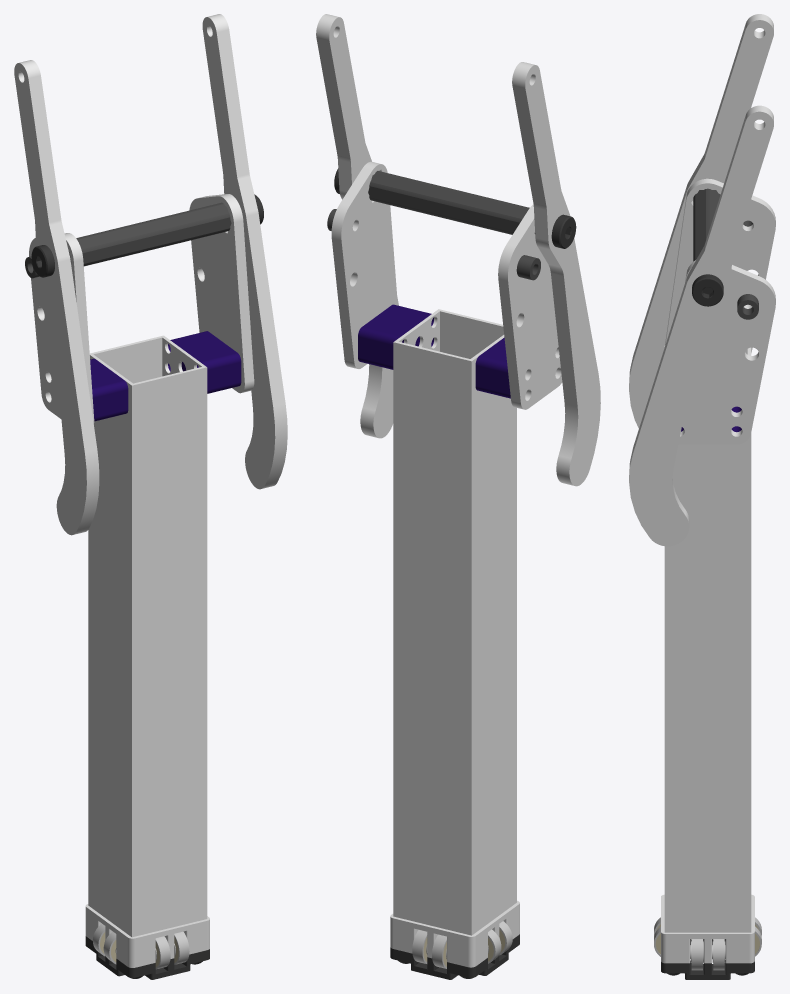
3 renders of one model, left to right at view 1: azimuth 30°, elevation 25°; view 2: azimuth 150°, elevation 25°; view 3: azimuth 270°, elevation 25°, orthographic. The views are drawn at different scales.
Visible parts, largest first — view 1: Tube 1.5"x1.5"x10.5", Hook (×2), Hook Mount (×2), 3.375 in. Rounded Hex Shaft, Hook Mount Spacer (×2), WCP-0419-007 Rev1_2, WCP-0419-009 Rev1_2, 3/8" Round x 5/16" L Shoulder (5/16"-18 x 0.8125" L, Steel, ; view 2: Tube 1.5"x1.5"x10.5", Hook (×2), Hook Mount (×2), 3.375 in. Rounded Hex Shaft, Hook Mount Spacer (×2), WCP-0419-007 Rev1_2, WCP-0419-009 Rev1_2, 3/8" Round x 5/16" L Shoulder (5/16"-18 x 0.8125" L, Steel, ; view 3: Tube 1.5"x1.5"x10.5", Hook (×2), Hook Mount (×2), WCP-0419-007 Rev1_2, 3.375 in. Rounded Hex Shaft, WCP-0419-009 Rev1_2, 3/8" Round x 5/16" L Shoulder (5/16"-18 x 0.8125" L, Steel, , 0.25" ID Bearing (0.625" OD, 0.196" WD, Shielded) (×2), 0.25 in. Round Spacer.
Part boxes in pixels (left/top/right/bottom): Tube 1.5"x1.5"x10.5": left=88, top=335, right=207, bottom=937; Hook (×2): left=14, top=14, right=287, bottom=535; Hook Mount (×2): left=29, top=194, right=254, bottom=424; 3.375 in. Rounded Hex Shaft: left=69, top=202, right=231, bottom=266; Hook Mount Spacer (×2): left=90, top=331, right=241, bottom=421; WCP-0419-007 Rev1_2: left=85, top=904, right=209, bottom=967; WCP-0419-009 Rev1_2: left=85, top=936, right=209, bottom=979; 3/8" Round x 5/16" L Shoulder (5/16"-18 x 0.8125" L, Steel, : left=31, top=245, right=54, bottom=277; Tube 1.5"x1.5"x10.5": left=393, top=309, right=516, bottom=935; Hook (×2): left=316, top=14, right=600, bottom=486; Hook Mount (×2): left=331, top=161, right=562, bottom=409; 3.375 in. Rounded Hex Shaft: left=368, top=171, right=535, bottom=234; Hook Mount Spacer (×2): left=358, top=304, right=510, bottom=398; WCP-0419-007 Rev1_2: left=390, top=900, right=519, bottom=967; WCP-0419-009 Rev1_2: left=390, top=934, right=519, bottom=979; 3/8" Round x 5/16" L Shoulder (5/16"-18 x 0.8125" L, Steel, : left=551, top=214, right=576, bottom=248; Tube 1.5"x1.5"x10.5": left=664, top=346, right=751, bottom=932; Hook (×2): left=629, top=14, right=773, bottom=546; Hook Mount (×2): left=665, top=178, right=775, bottom=444; WCP-0419-007 Rev1_2: left=661, top=894, right=754, bottom=963; 3.375 in. Rounded Hex Shaft: left=693, top=188, right=720, bottom=261; WCP-0419-009 Rev1_2: left=661, top=939, right=754, bottom=979; 3/8" Round x 5/16" L Shoulder (5/16"-18 x 0.8125" L, Steel, : left=692, top=274, right=723, bottom=306; 0.25" ID Bearing (0.625" OD, 0.196" WD, Shielded) (×2): left=691, top=939, right=724, bottom=970; 0.25 in. Round Spacer: left=737, top=294, right=758, bottom=319.
Size of the model in its own units: 0.1101 by 0.4349 by 0.0645.
